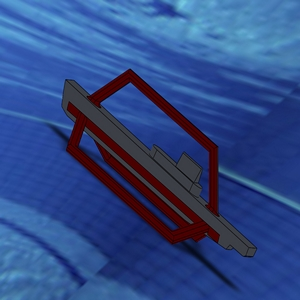submarine: (21, 49, 271, 267)
